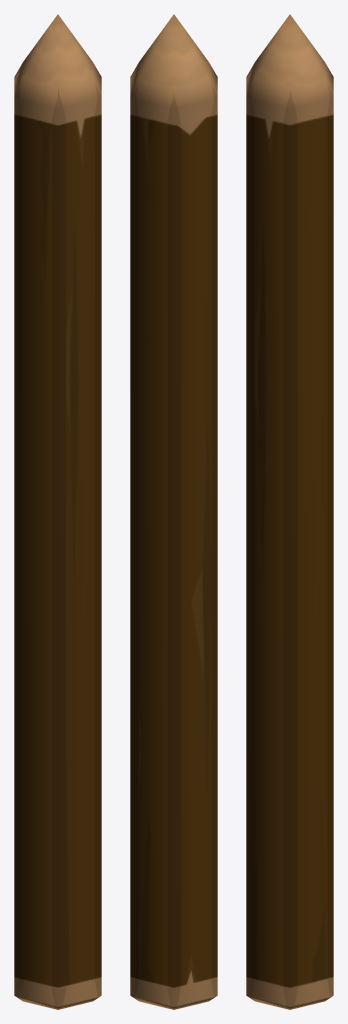
The model's file is mod_building_palisade_pole_1.fbx.
3 renders of one model, left to right at view 1: azimuth 30°, elevation 25°; view 2: azimuth 210°, elevation 25°; view 3: azimuth 330°, elevation 25°, orthographic.
Visible parts, largest first — view 1: mod_building_palisade_pole_a; view 2: mod_building_palisade_pole_a; view 3: mod_building_palisade_pole_a.
Boxes of the visible parts, x1,y1,x2,y2 form: mod_building_palisade_pole_a: (14,14,101,1009); mod_building_palisade_pole_a: (130,14,217,1009); mod_building_palisade_pole_a: (246,14,333,1009).
Size of the model in its own units: 38.54 by 413 by 33.38.
